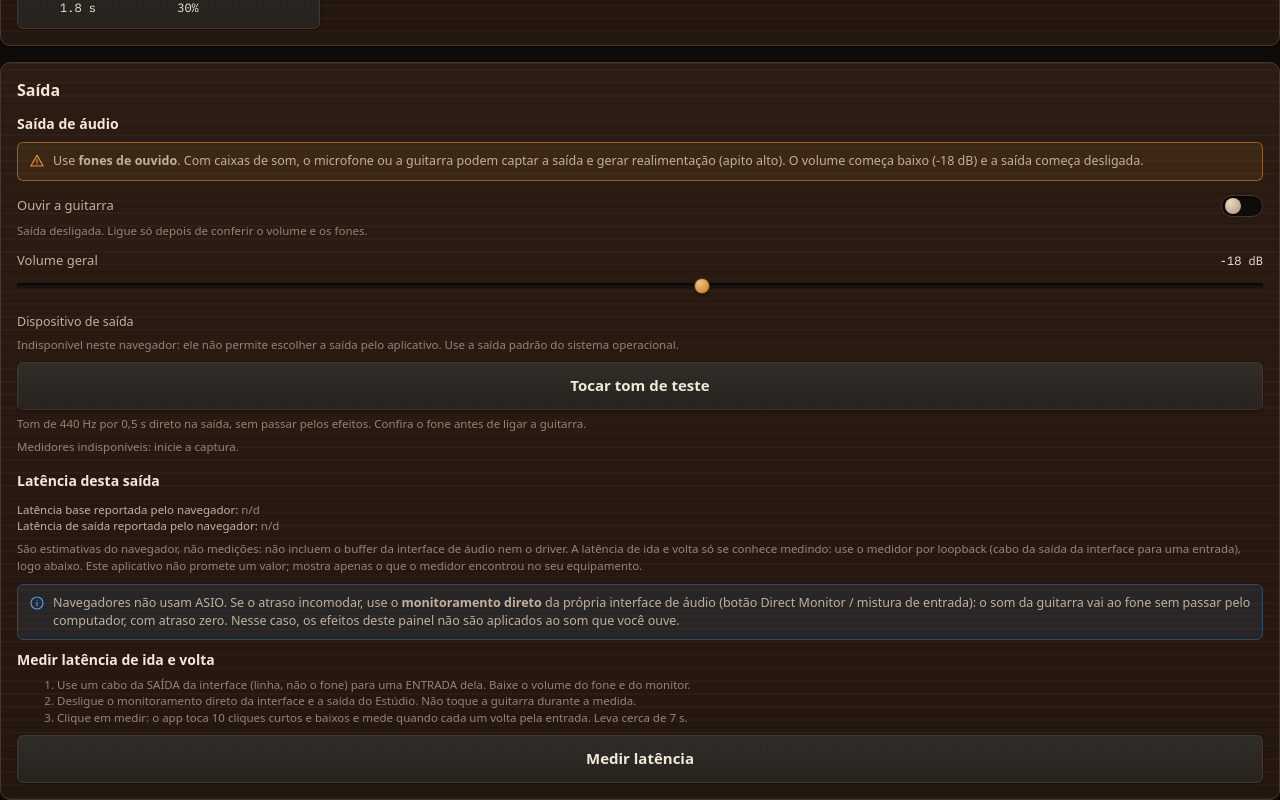
Test: Medidor de latência por loopback (interface) › falha no-signal: mensagem clara, nenhum número inventado
The width and height of the screenshot is (1280, 800).
(page scrolled)
Click the button with test id "loopback-btn". click: (640, 759)
box: [17, 735, 1263, 783]
(page scrolled)
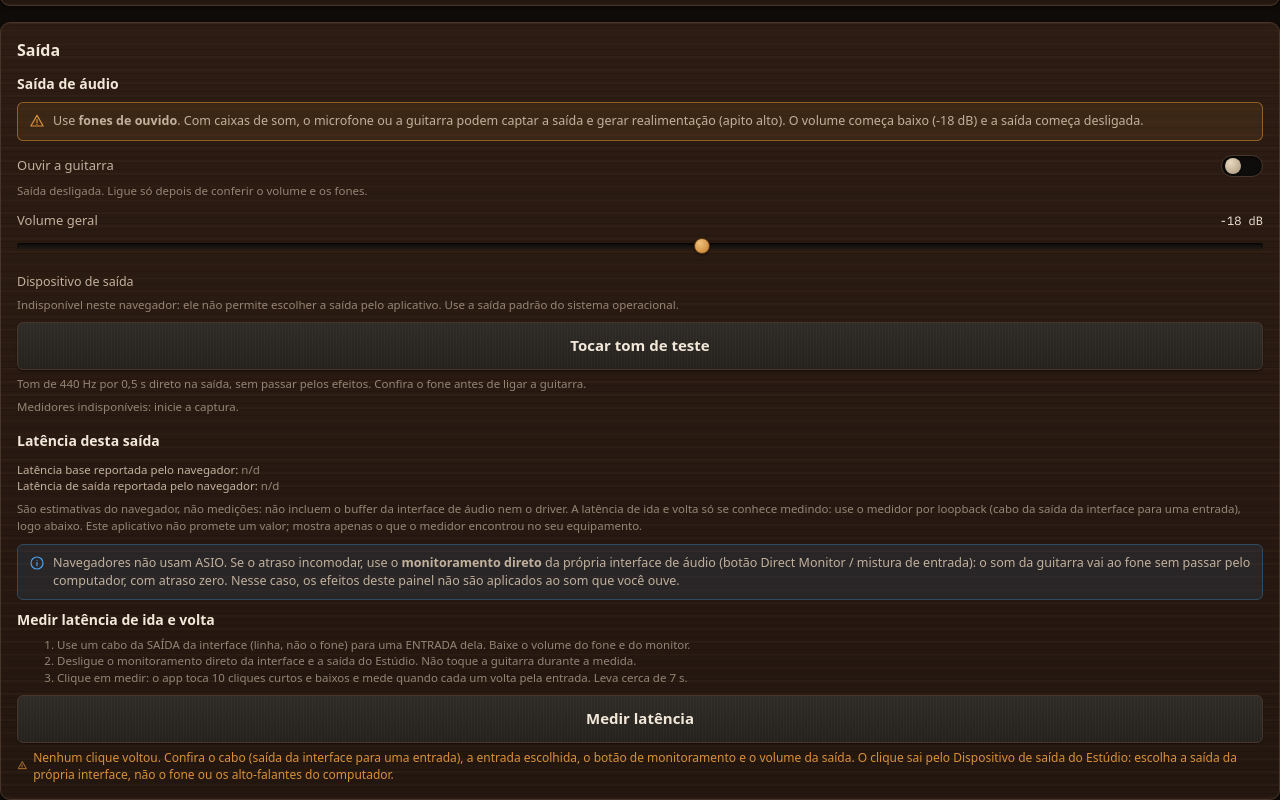
Expected: the message with test id "loopback-error" is shown, [17, 748, 1263, 783]
Expected: the message with test id "loopback-error" shows "Nenhum clique voltou", [33, 748, 1237, 783]
